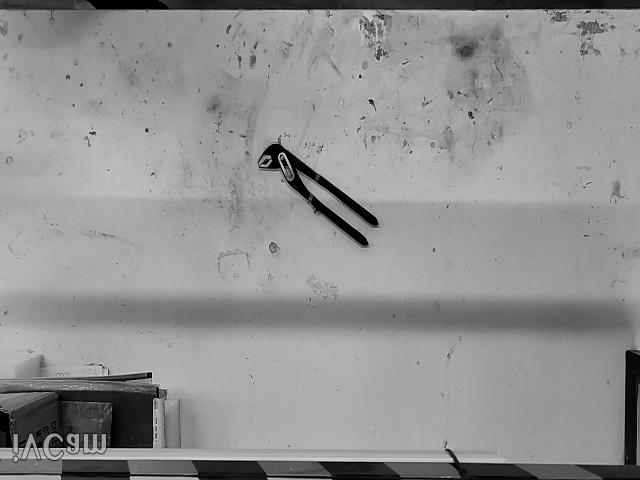Gas wrench: (258, 143, 379, 247)
